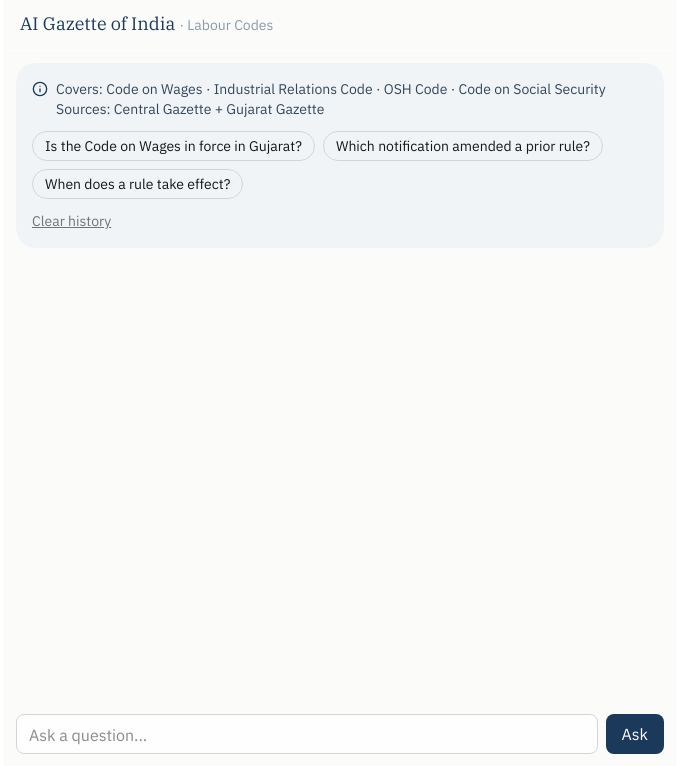
Test: Page › clicking the same example chip again re-populates the input, even after it was edited
Click the button "Is the Code on Wages in force in Gujarat?".
click(173, 146)  # box [32,131,315,161]
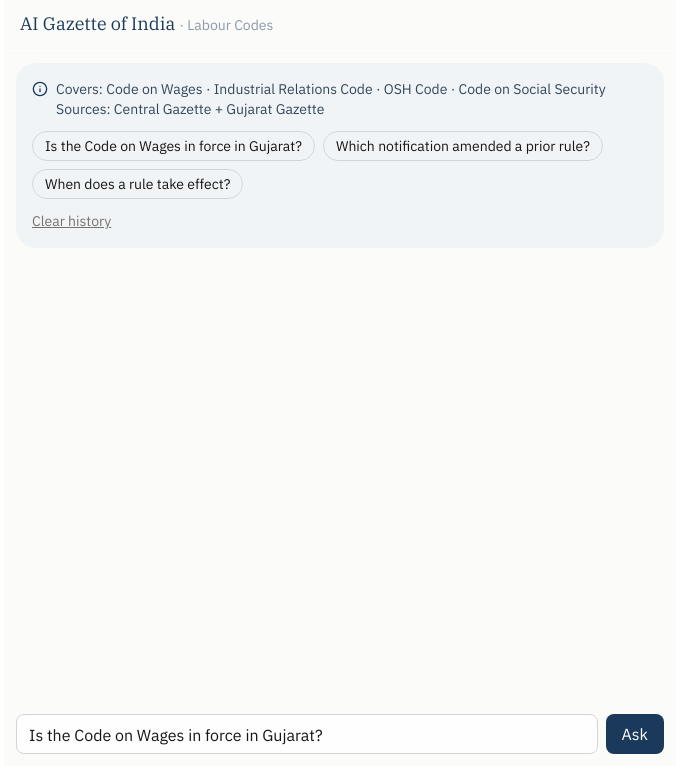
Result: the field holds "Is the Code on Wages in force in Gujarat?"
Replace the text in the field with "something the user typed instead" at coordinates (307, 734), box [16,714,598,754]
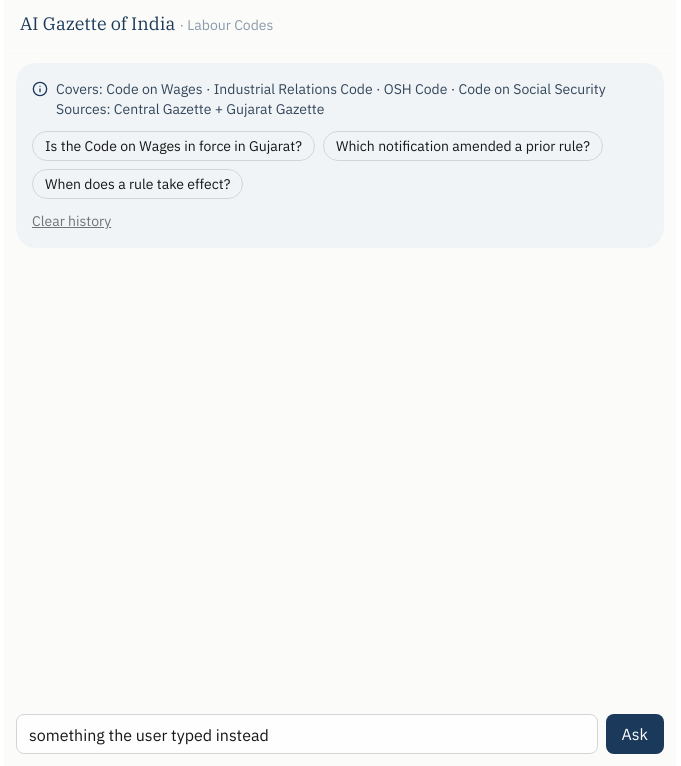
Click the button "Is the Code on Wages in force in Gujarat?".
click(173, 146)  # box [32,131,315,161]
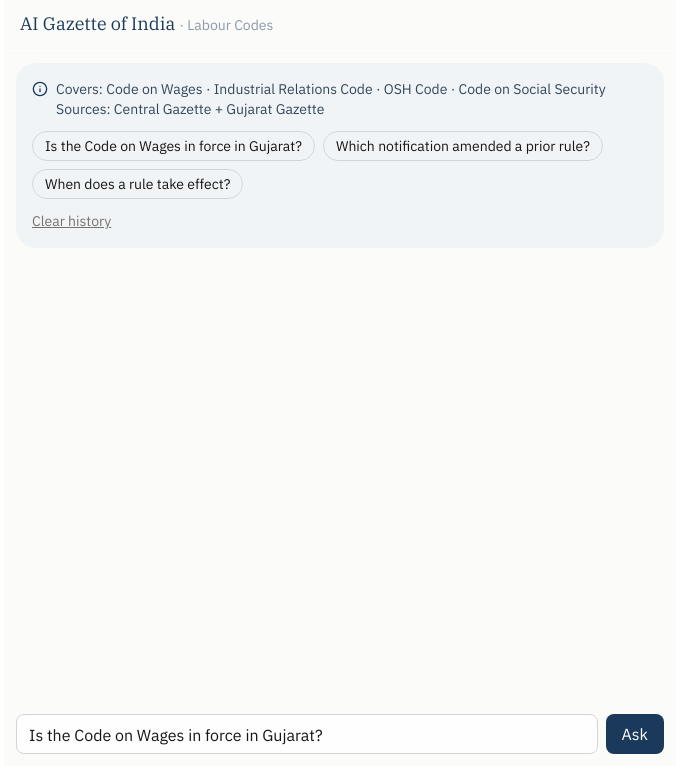
Result: the field holds "Is the Code on Wages in force in Gujarat?" at [16,714,598,754]
